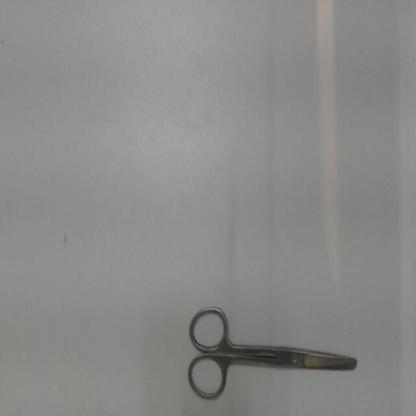Dressing Scissors: (180, 301, 371, 409)
